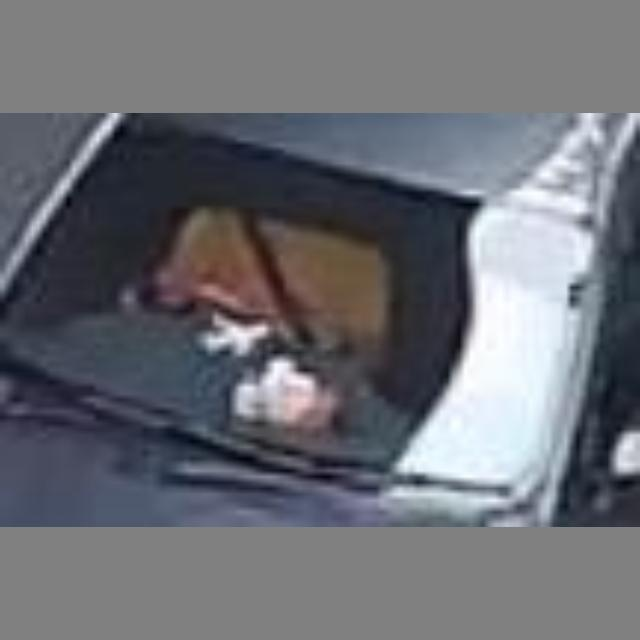pakai: (148, 154, 403, 397)
